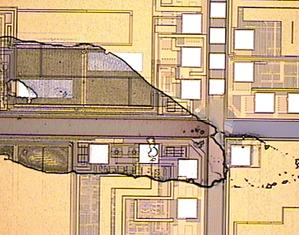COATING BAD: (1, 36, 299, 191)
